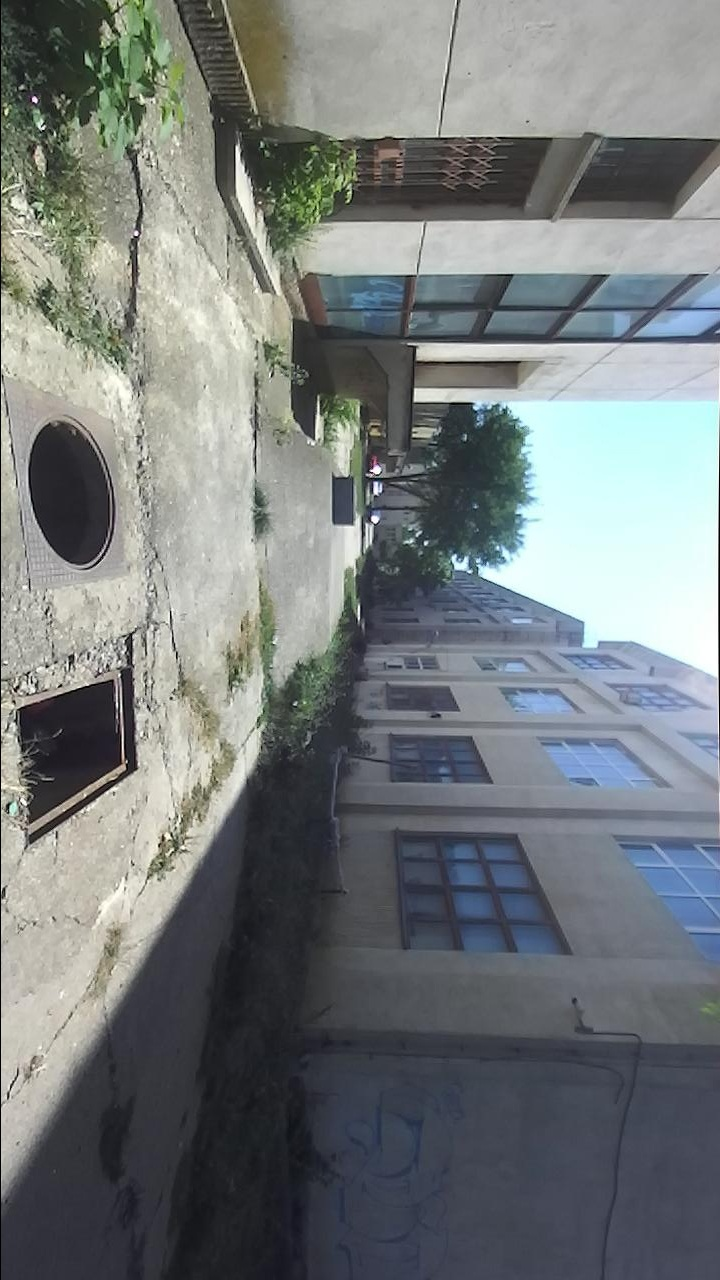drain: (18, 665, 142, 858), (22, 410, 120, 575)
